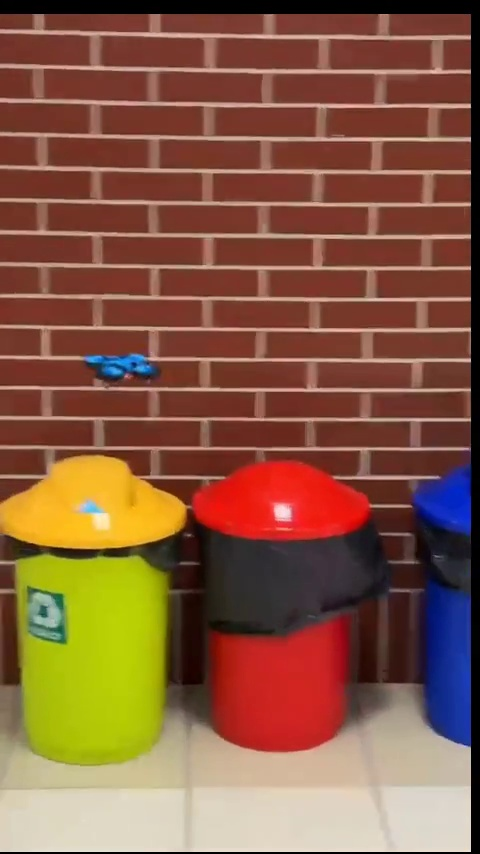drone: (84, 350, 168, 388)
